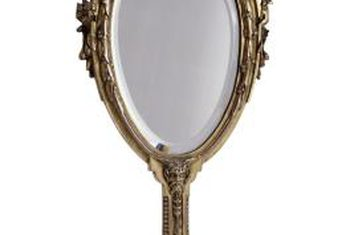Nonrec_Glass: (72, 1, 272, 187)
